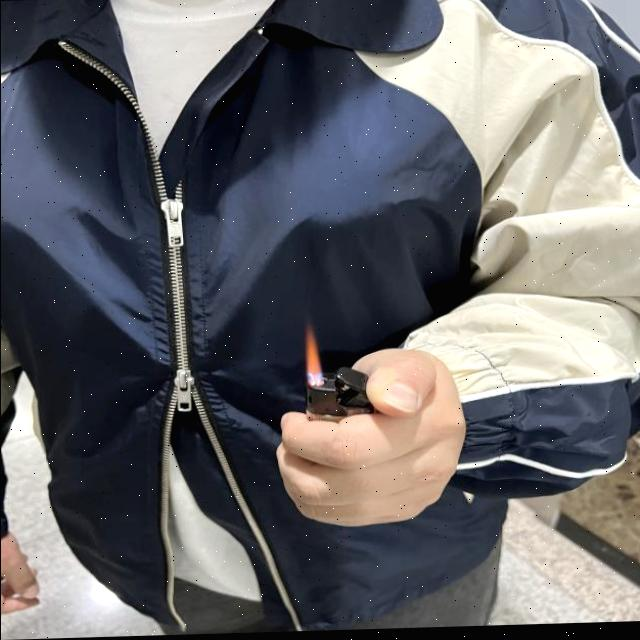Fire: (305, 326, 323, 377)
